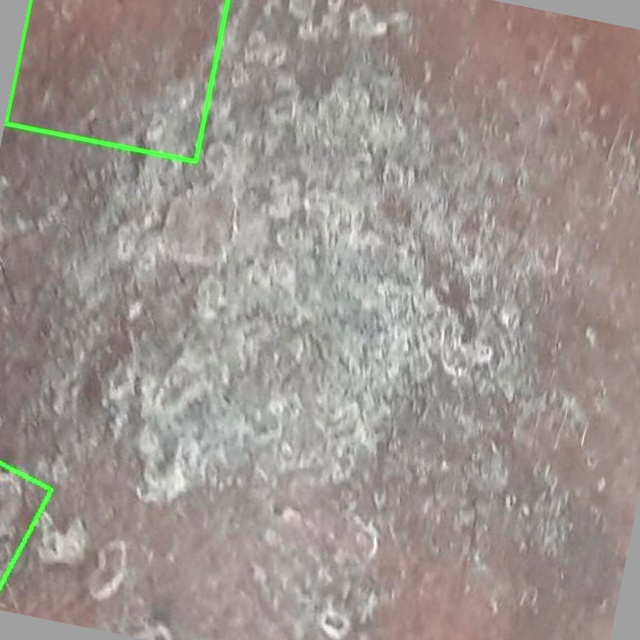Tinea Corporis: (5, 0, 227, 161)
